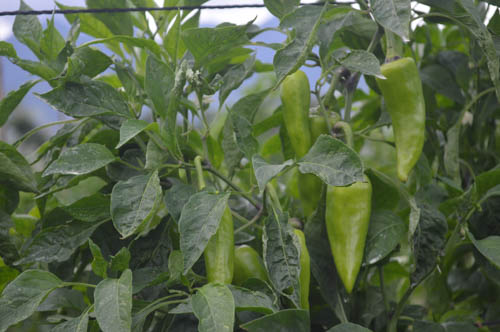ChiliPepper: (370, 55, 426, 174), (316, 178, 362, 301), (278, 72, 310, 182), (274, 235, 315, 318), (205, 211, 235, 294), (298, 111, 334, 161), (232, 254, 275, 285)
